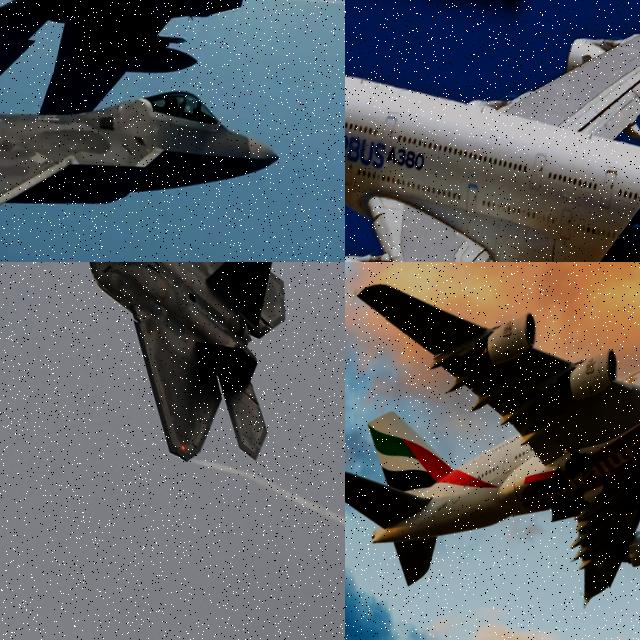A380: (345, 262, 640, 640), (345, 0, 640, 262)
F22: (0, 0, 298, 262), (0, 262, 309, 475), (0, 0, 345, 181)
